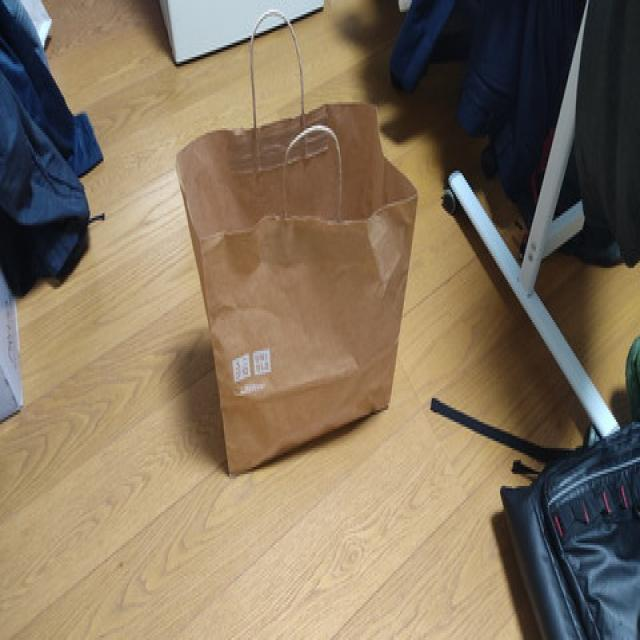paper bag: (173, 6, 420, 480)
